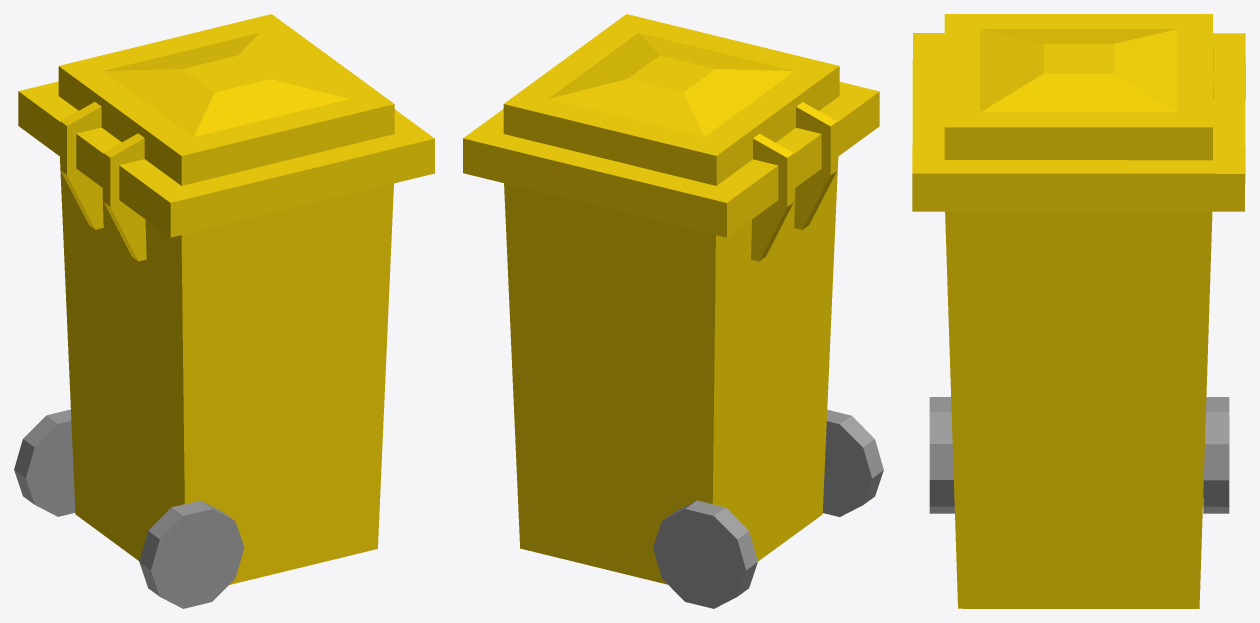
Rendered from player_bin_flip.fbx.
The picture shows the model from 3 angles, left to right: view 1: azimuth 30°, elevation 25°; view 2: azimuth 150°, elevation 25°; view 3: azimuth 270°, elevation 25°; orthographic projection. The views are drawn at different scales.
Parts seen in each view (by area): view 1: Poubelle_03, Poubelle_03.001, Cube_001, Cube_002, Cube_003, Cube_004; view 2: Poubelle_03, Poubelle_03.001, Cube_002, Cube_001, Cube_004, Cube_003; view 3: Poubelle_03, Poubelle_03.001, Cube_002, Cube_001.
Part boxes in pixels (x1,y1,x2,y2): Poubelle_03: (18, 81, 434, 584); Poubelle_03.001: (58, 14, 394, 185); Cube_001: (139, 500, 244, 608); Cube_002: (14, 409, 75, 516); Cube_003: (60, 102, 103, 229); Cube_004: (103, 133, 146, 261); Poubelle_03: (463, 82, 879, 584); Poubelle_03.001: (503, 14, 839, 185); Cube_002: (653, 500, 757, 608); Cube_001: (822, 409, 883, 516); Cube_004: (794, 102, 837, 229); Cube_003: (751, 133, 793, 261); Poubelle_03: (912, 33, 1245, 608); Poubelle_03.001: (944, 14, 1212, 159); Cube_002: (1203, 397, 1229, 513); Cube_001: (929, 397, 954, 513).
Bounding box in the file's own units: 184 × 291 × 176.
